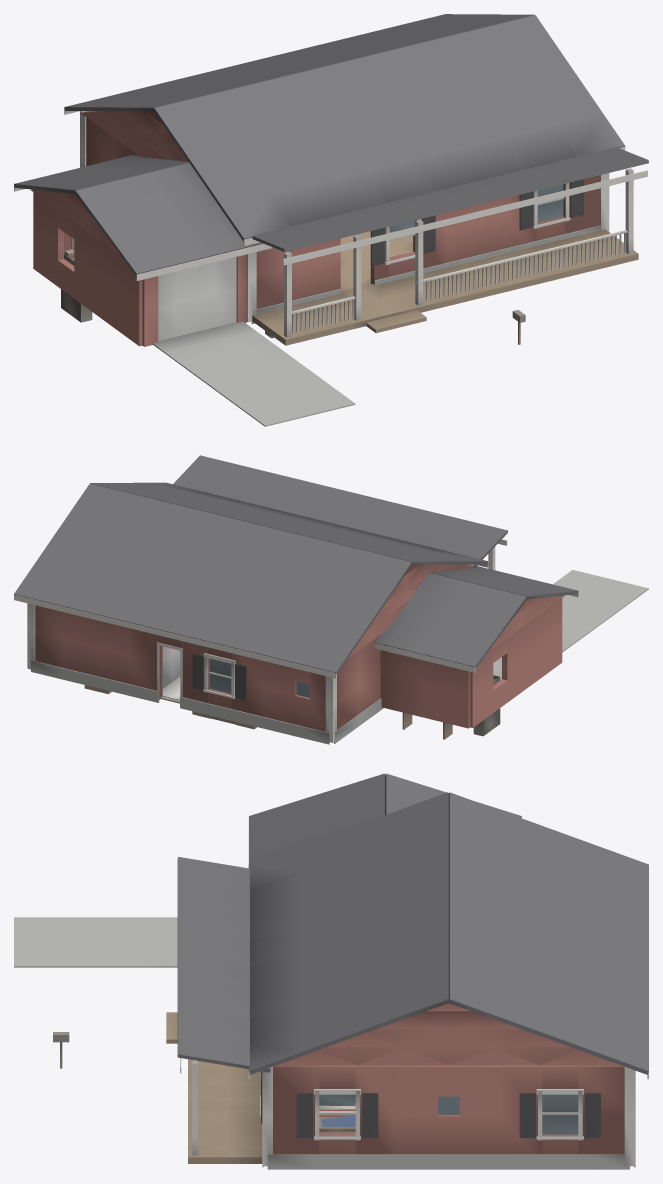
Rendered from casa_us_5.glb.
3 renders of one model, top to bottom at view 1: azimuth 30°, elevation 25°; view 2: azimuth 150°, elevation 25°; view 3: azimuth 270°, elevation 25°, orthographic. The views are drawn at different scales.
Parts seen in each view (by area): view 1: longe, ext, detalhe, dentro, despensa_garagem2; view 2: longe, ext, detalhe, dentro, despensa_garagem2; view 3: longe, ext, detalhe, cama_quarto10.
Part boxes in pixels (left/top/right/bottom): longe: left=14, top=14, right=648, bottom=426; ext: left=31, top=111, right=609, bottom=346; detalhe: left=71, top=179, right=583, bottom=344; dentro: left=340, top=231, right=413, bottom=291; despensa_garagem2: left=61, top=249, right=92, bottom=322; longe: left=14, top=455, right=648, bottom=678; ext: left=27, top=564, right=564, bottom=744; detalhe: left=84, top=642, right=452, bottom=739; dentro: left=160, top=646, right=501, bottom=703; despensa_garagem2: left=473, top=675, right=500, bottom=736; longe: left=14, top=773, right=648, bottom=1163; ext: left=262, top=1003, right=635, bottom=1169; detalhe: left=53, top=1012, right=600, bottom=1140; cama_quarto10: left=319, top=1115, right=355, bottom=1132.
Size of what is drawn, in the model's own units: 17.3 by 6.2 by 17.52.
